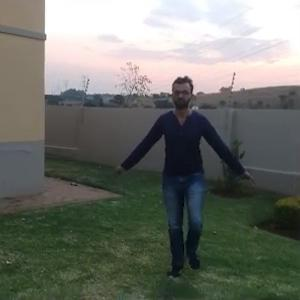land: (117, 68, 255, 281)
